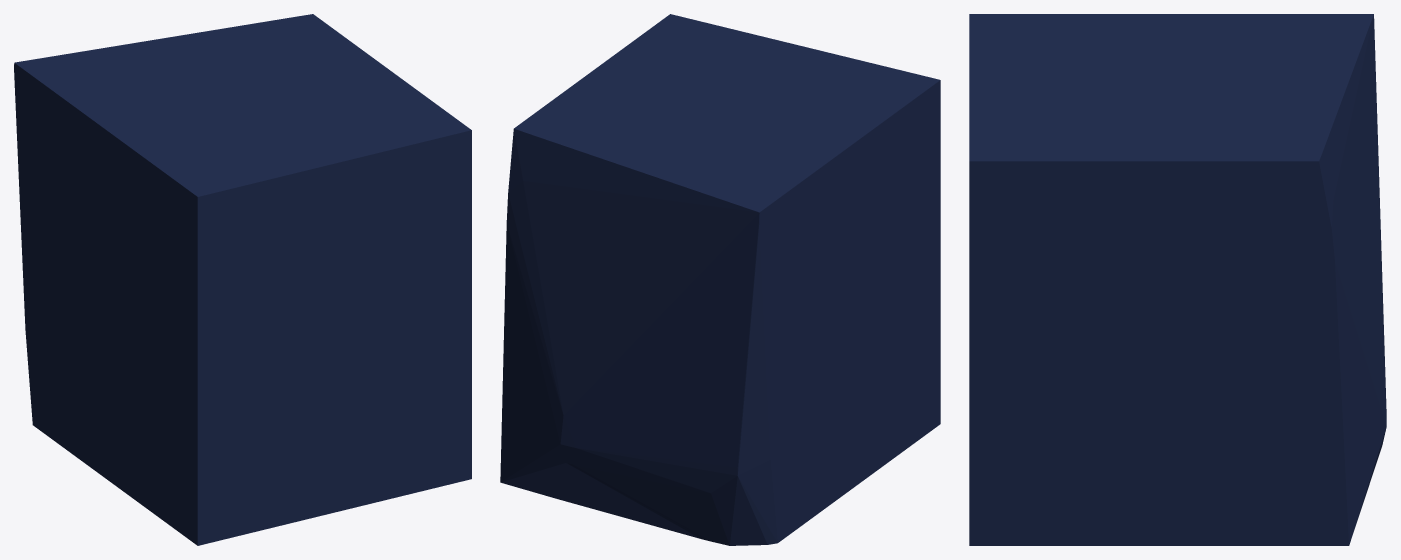
3 renders of one model, left to right at view 1: azimuth 30°, elevation 25°; view 2: azimuth 150°, elevation 25°; view 3: azimuth 270°, elevation 25°, orthographic. The views are drawn at different scales.
Size of the model in its own units: 0.0166 by 0.0202 by 0.0199.
